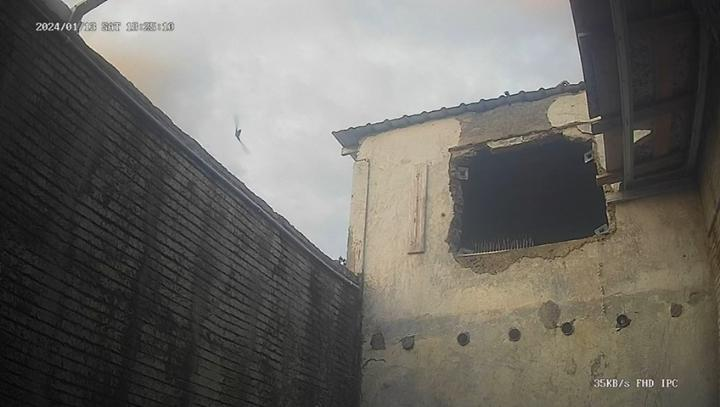walet: (231, 115, 251, 154)
